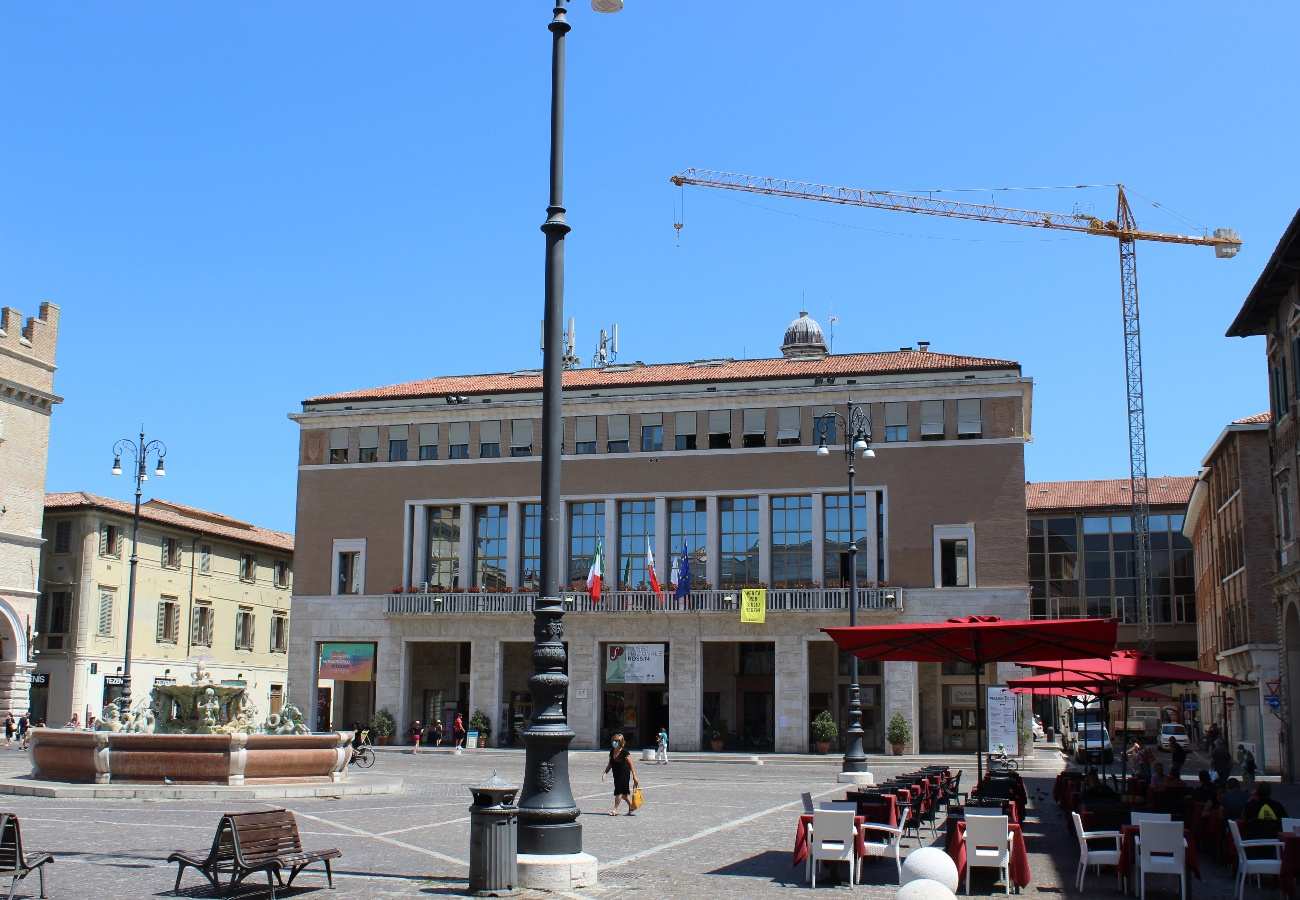Fontana Piazza del Popolo: (152, 678, 250, 738)
Palazzo Comunale: (299, 383, 1031, 756)
